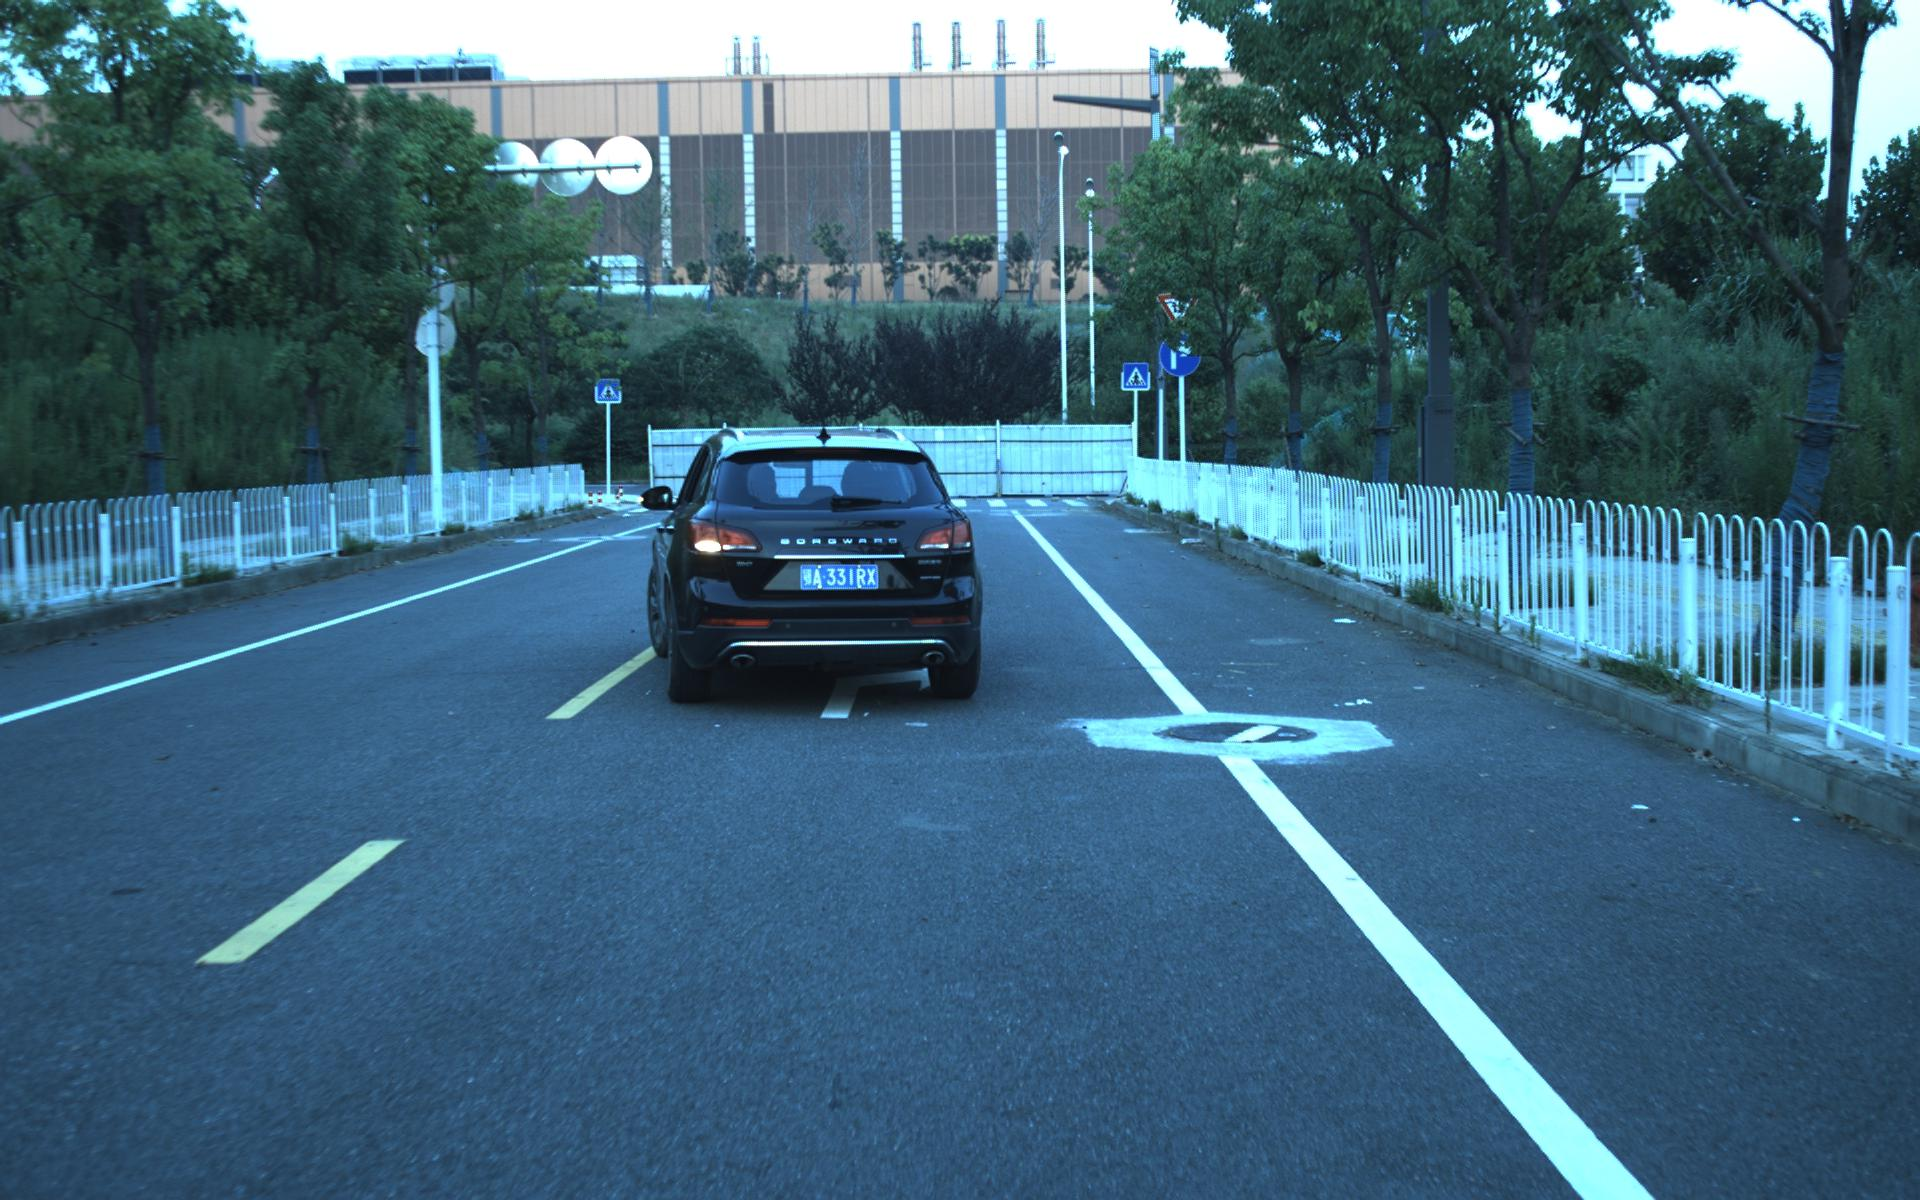Car: (651, 418, 992, 712)
